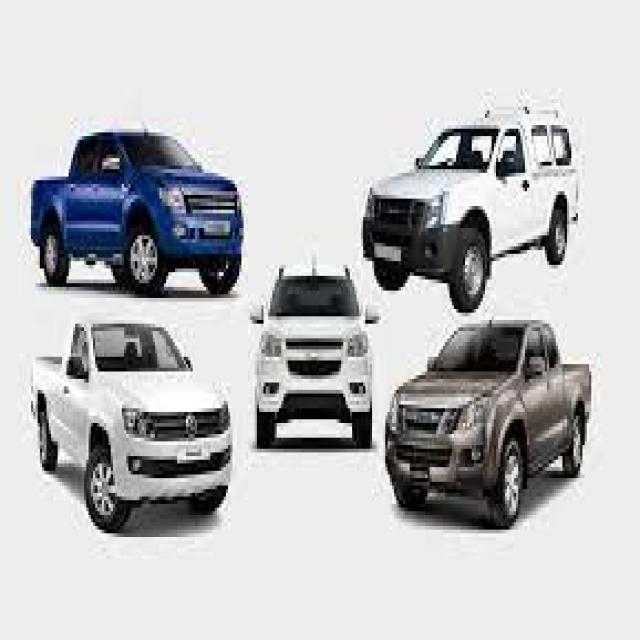Pickup Trucks: (363, 99, 582, 313), (386, 320, 594, 526), (33, 320, 233, 533), (31, 129, 244, 294), (250, 261, 381, 453)
